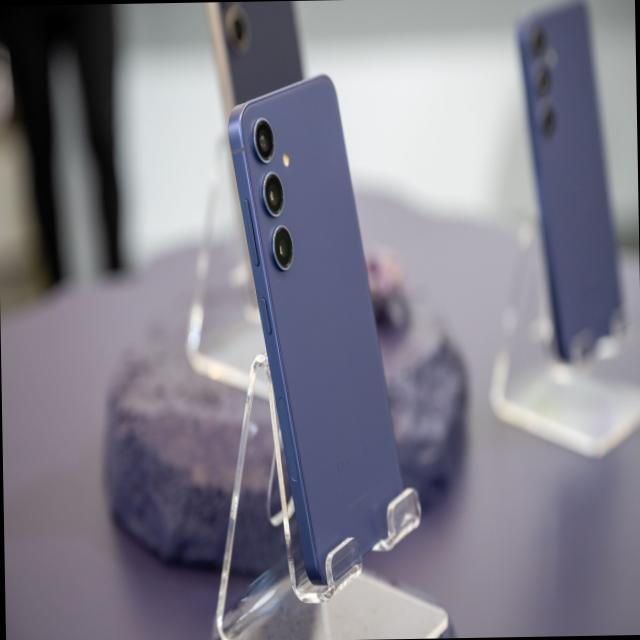mobile_phone: (203, 53, 444, 621)
